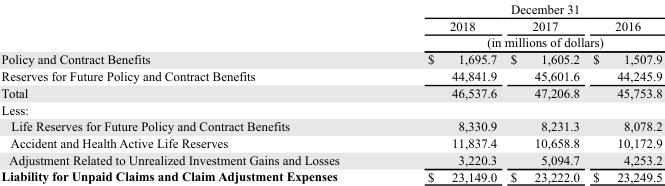table: (0, 1, 661, 183)
table column: (0, 1, 382, 183), (382, 1, 502, 183), (502, 1, 585, 183), (585, 1, 661, 183)
table column header: (0, 1, 661, 50)
table projected row header: (0, 100, 661, 117)
table row: (0, 16, 661, 33), (0, 33, 661, 50), (0, 50, 661, 67), (0, 83, 661, 100), (0, 100, 661, 117), (0, 117, 661, 134), (0, 134, 661, 151), (0, 67, 661, 83), (0, 151, 661, 167), (0, 167, 661, 183), (0, 1, 661, 16)
table spanning cell: (382, 33, 661, 50), (382, 1, 661, 16)
